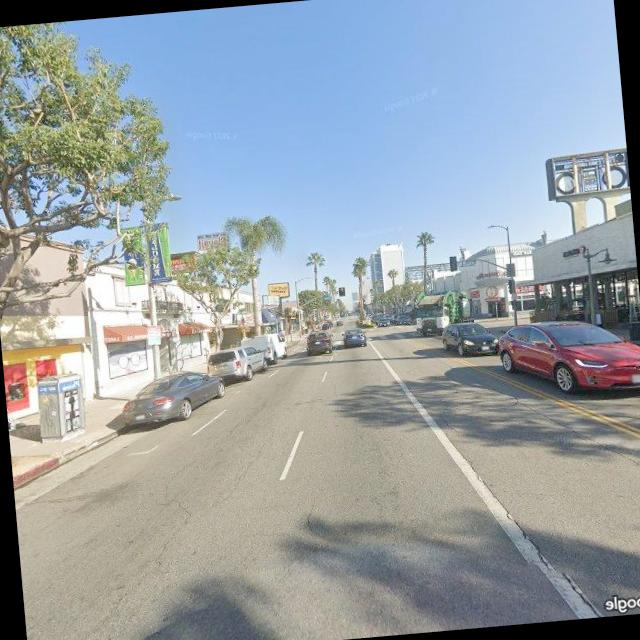crack: (83, 486, 207, 632)
